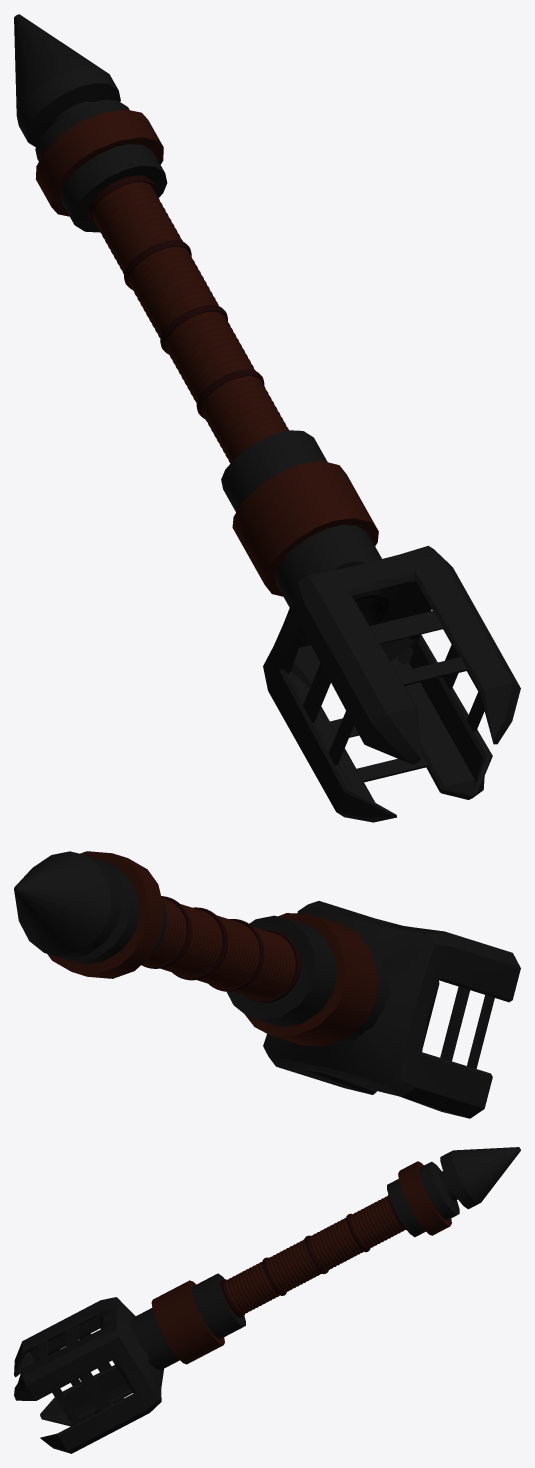
Rendered from torch_medieval.fbx.
3 views of the same model, one above another, from view 1: azimuth 30°, elevation 25°; view 2: azimuth 150°, elevation 25°; view 3: azimuth 270°, elevation 25° (orthographic). The views are drawn at different scales.
Parts seen in each view (by area): view 1: Cube.001_3, Cube_0, Torus.016_4, Cube.002_6, Cube.003_7, Torus.001_5; view 2: Cube.001_3, Cube_0, Torus.016_4, Cube.002_6, Cube.003_7, Torus.001_5; view 3: Cube.001_3, Cube_0, Torus.016_4, Cube.002_6, Cube.003_7, Torus.001_5.
Part boxes in pixels (x1,y1,x2,y2): Cube.001_3: (263, 545, 520, 822); Cube_0: (14, 14, 381, 607); Torus.016_4: (92, 182, 288, 463); Cube.002_6: (232, 461, 378, 596); Cube.003_7: (36, 109, 163, 216); Torus.001_5: (87, 175, 264, 418); Cube.001_3: (263, 901, 520, 1118); Cube_0: (14, 851, 390, 1043); Torus.016_4: (143, 898, 295, 999); Cube.002_6: (245, 913, 378, 1046); Cube.003_7: (47, 851, 163, 978); Torus.001_5: (141, 896, 300, 1003); Cube.001_3: (14, 1297, 163, 1453); Cube_0: (130, 1147, 520, 1370); Torus.016_4: (220, 1196, 405, 1314); Cube.002_6: (151, 1280, 224, 1364); Cube.003_7: (398, 1161, 451, 1235); Torus.001_5: (220, 1195, 406, 1317).
Bounding box in the file's own units: 3.27 × 10.58 × 16.82.
